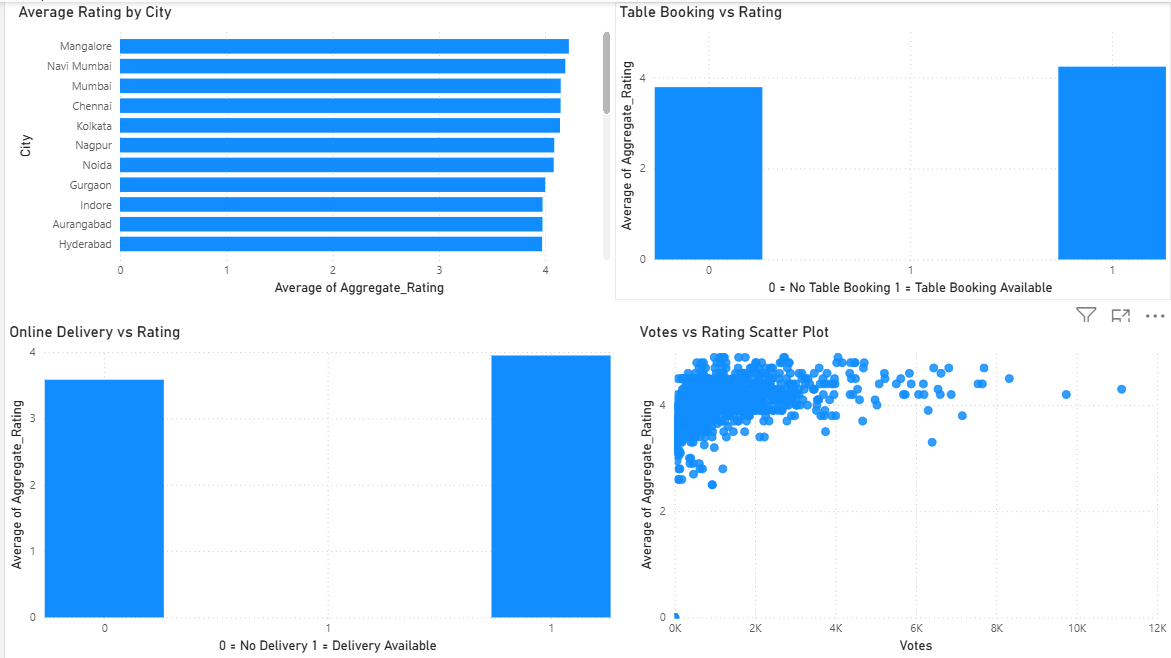

Layout of this report page (visuals, bound fields, positions):
{"tool":"powerbi","page":{"name":"Customer & Rating Analysis","canvas":[1280,720],"ordinal":1},"visuals":[{"type":"clusteredBarChart","title":"Average Rating by City","fields":{"Category":["zomato_cleaned_final.City"],"Y":["Avg(zomato_cleaned_final.Aggregate_Rating)"]},"box":[10,0,660,326.7],"z":0},{"type":"clusteredColumnChart","title":"Online Delivery vs Rating","fields":{"Category":["zomato_cleaned_final.Has_Online_delivery"],"Y":["Avg(zomato_cleaned_final.Aggregate_Rating)"]},"box":[0,351.7,670,368.3],"z":1000},{"type":"clusteredColumnChart","title":"Table Booking vs Rating","fields":{"Category":["zomato_cleaned_final.Has_table_booking"],"Y":["Avg(zomato_cleaned_final.Aggregate_Rating)"]},"box":[670,0,610,326.7],"z":2000},{"type":"scatterChart","title":"Votes vs Rating Scatter Plot","fields":{"X":["zomato_cleaned_final.Votes"],"Y":["Avg(zomato_cleaned_final.Aggregate_Rating)"]},"box":[691.7,351.7,588.3,368.3],"z":3000}]}

Visuals, with their boxes in screenshot pixels (x1, y1, x2, y2), scaled from the page's 1280x720 canvas onto the 1171x658 screenshot:
"Average Rating by City" clusteredBarChart: left=9, top=0, right=613, bottom=299
"Online Delivery vs Rating" clusteredColumnChart: left=0, top=321, right=613, bottom=657
"Table Booking vs Rating" clusteredColumnChart: left=613, top=0, right=1170, bottom=299
"Votes vs Rating Scatter Plot" scatterChart: left=633, top=321, right=1170, bottom=657
